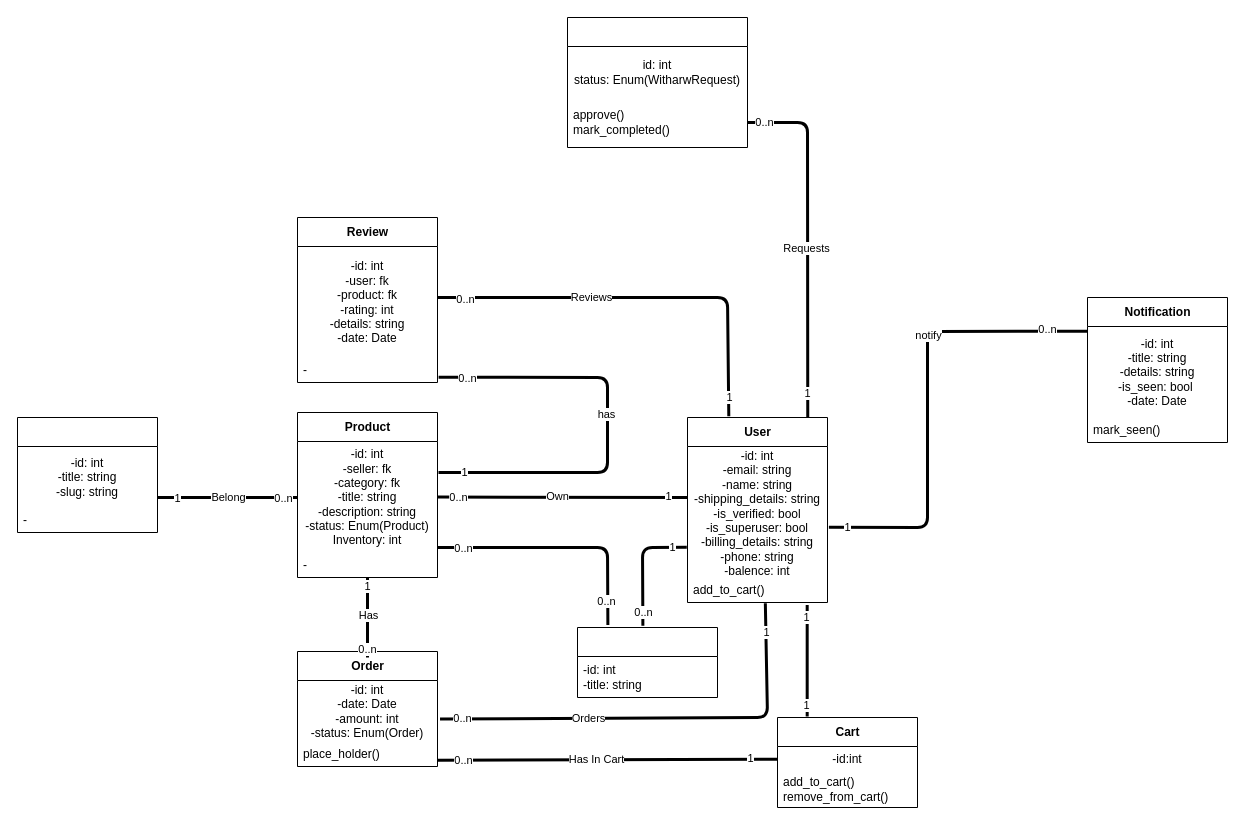
This 1245x825 diagram has some shape labels left out. Here are the shapes that lost their labels. From the top down, the box of each, then its label:
(566, 16, 748, 148): WithdrawRequest
(16, 416, 158, 532): Category
(576, 626, 718, 698): CompareList
